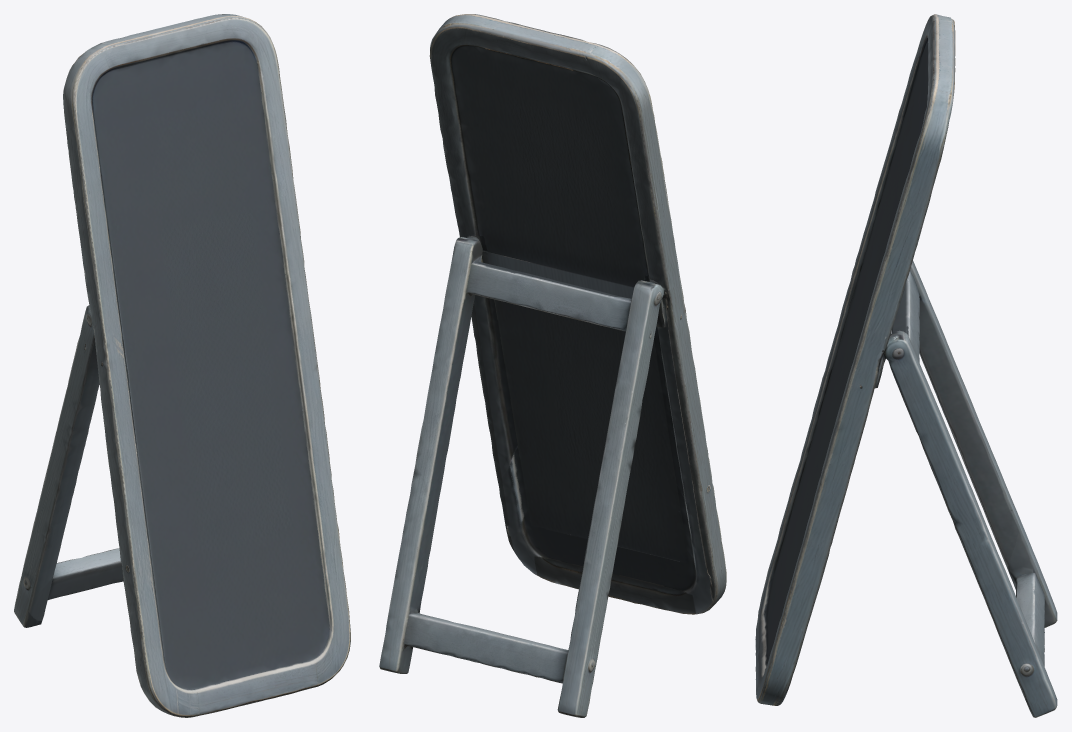
The model's file is VAR_Bedroom_StandingMirror.fbx.
The picture shows the model from 3 angles, left to right: view 1: azimuth 30°, elevation 25°; view 2: azimuth 150°, elevation 25°; view 3: azimuth 270°, elevation 25°; orthographic projection. The views are drawn at different scales.
Visible parts, largest first — view 1: texture_mapping; view 2: texture_mapping; view 3: texture_mapping.
Part boxes in pixels (left/top/right/bottom): texture_mapping: left=14, top=14, right=350, bottom=717; texture_mapping: left=379, top=14, right=726, bottom=717; texture_mapping: left=755, top=14, right=1057, bottom=717.
Size of the model in its own units: 0.3543 by 0.4393 by 1.
1 material, 1 textured.
